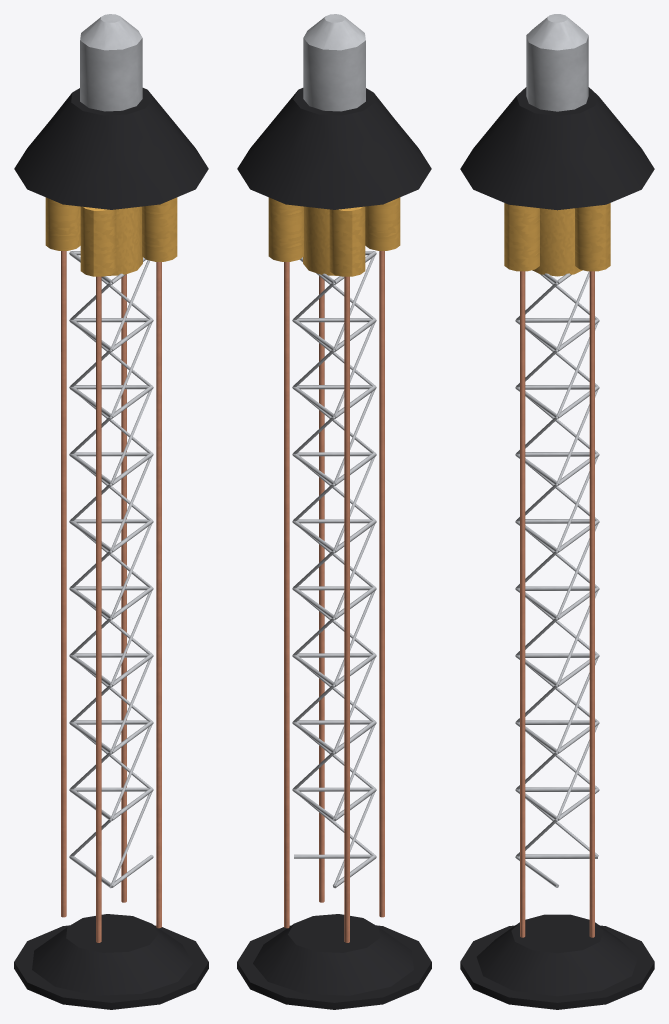
The model's file is power07_mw_reactor.glb.
3 views of the same model, side by side, from view 1: azimuth 30°, elevation 25°; view 2: azimuth 150°, elevation 25°; view 3: azimuth 270°, elevation 25° (orthographic).
Visible parts, largest first — view 1: shadow_shield, coolant_loops, base_adapter, boom_truss, brayton_pcu, reactor_vessel; view 2: shadow_shield, coolant_loops, base_adapter, boom_truss, brayton_pcu, reactor_vessel; view 3: shadow_shield, base_adapter, boom_truss, coolant_loops, brayton_pcu, reactor_vessel.
Part boxes in pixels (bbox=[...]): shadow_shield: bbox=[14, 88, 208, 209]; coolant_loops: bbox=[61, 251, 161, 942]; base_adapter: bbox=[14, 914, 208, 1009]; boom_truss: bbox=[69, 251, 153, 888]; brayton_pcu: bbox=[45, 197, 177, 276]; reactor_vessel: bbox=[80, 14, 142, 111]; shadow_shield: bbox=[237, 88, 431, 209]; coolant_loops: bbox=[284, 251, 384, 942]; base_adapter: bbox=[237, 914, 431, 1009]; boom_truss: bbox=[292, 251, 376, 888]; brayton_pcu: bbox=[268, 197, 400, 276]; reactor_vessel: bbox=[303, 14, 365, 111]; shadow_shield: bbox=[460, 87, 654, 210]; base_adapter: bbox=[460, 914, 654, 1009]; boom_truss: bbox=[515, 271, 599, 887]; coolant_loops: bbox=[520, 271, 594, 937]; brayton_pcu: bbox=[504, 203, 610, 276]; reactor_vessel: bbox=[526, 14, 588, 111].
Bounding box in the file's own units: 3.75 × 20.2 × 3.75.
Materials: 4 (3 with a texture image).
